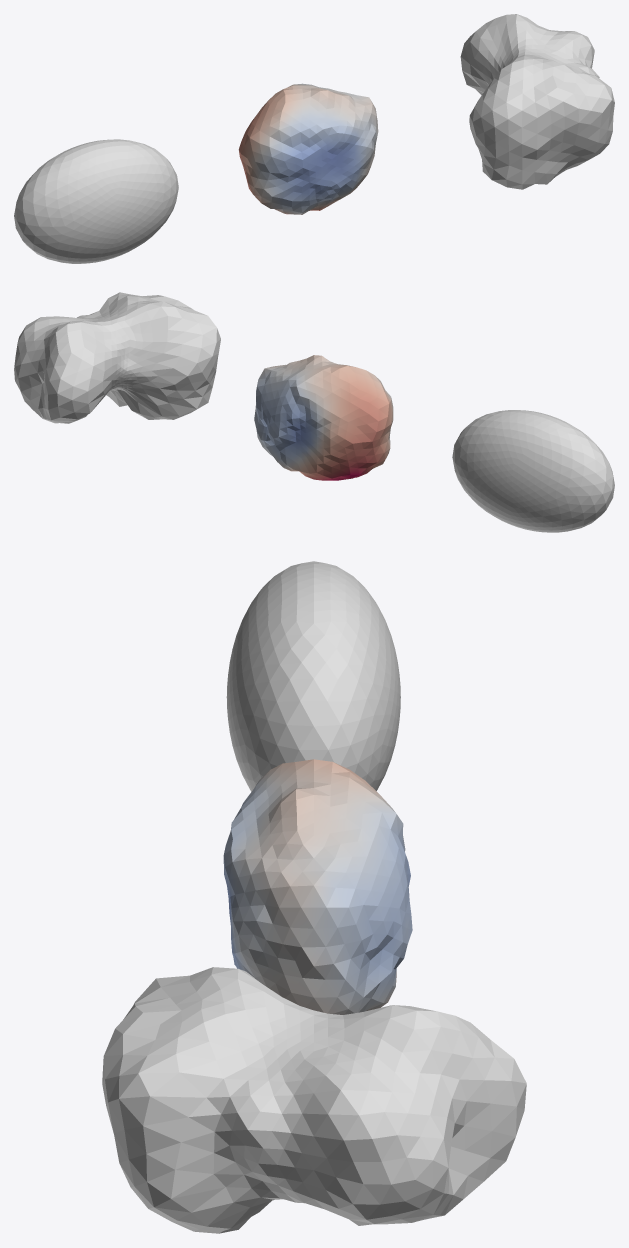
Rendered from gn_fit_compare.glb.
The picture shows the model from 3 angles, top to bottom: view 1: azimuth 30°, elevation 25°; view 2: azimuth 150°, elevation 25°; view 3: azimuth 270°, elevation 25°; orthographic projection. The views are drawn at different scales.
Visible parts, largest first — view 1: star proxy (model 3), initial, fitted; view 2: star proxy (model 3), initial, fitted; view 3: star proxy (model 3), fitted, initial.
Boxes of the visible parts, <box> form: star proxy (model 3): <box>460,14,614,189</box>; initial: <box>14,139,178,263</box>; fitted: <box>238,83,378,214</box>; star proxy (model 3): <box>14,292,220,423</box>; initial: <box>452,410,614,532</box>; fitted: <box>254,355,393,480</box>; star proxy (model 3): <box>102,967,526,1233</box>; fitted: <box>223,759,412,1014</box>; initial: <box>226,561,400,791</box>.
Bounding box in the file's own units: 3.13 × 0.6212 × 0.9954.
